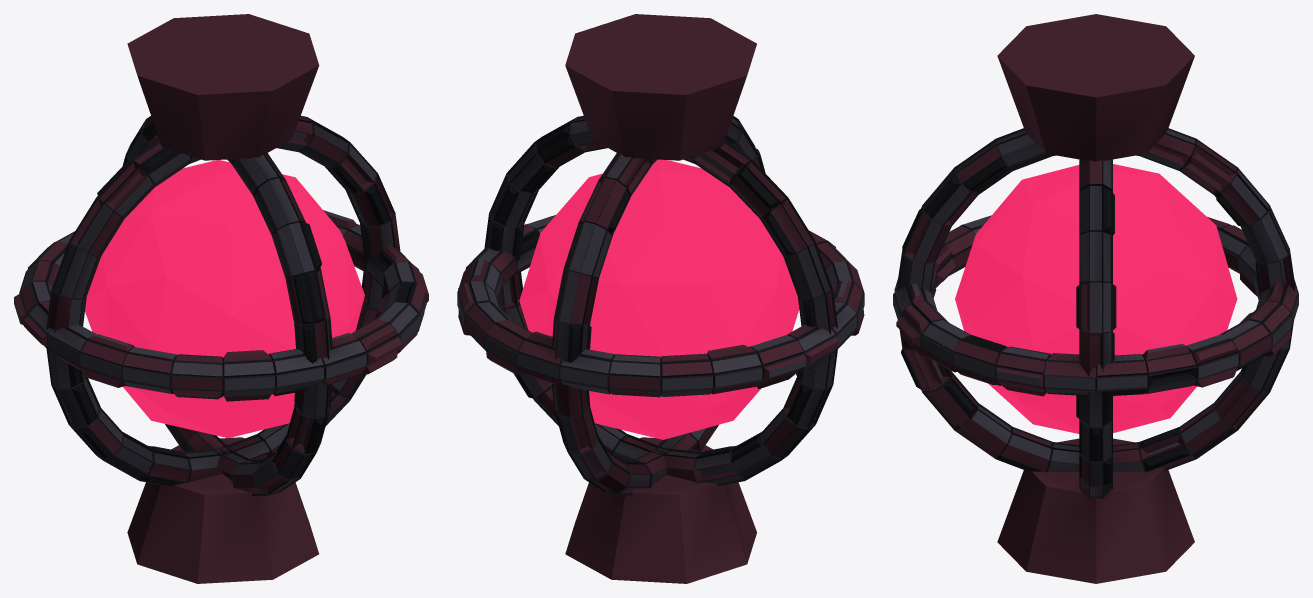
The model's file is reactor.glb.
3 renders of one model, left to right at view 1: azimuth 30°, elevation 25°; view 2: azimuth 150°, elevation 25°; view 3: azimuth 270°, elevation 25°, orthographic.
Visible parts, largest first — view 1: reactor; view 2: reactor; view 3: reactor.
Boxes of the visible parts, x1=… form: reactor: x1=14, y1=14, x2=428, y2=583; reactor: x1=457, y1=14, x2=864, y2=583; reactor: x1=893, y1=14, x2=1298, y2=583.
Size of the model in its own units: 171 by 225 by 170.
